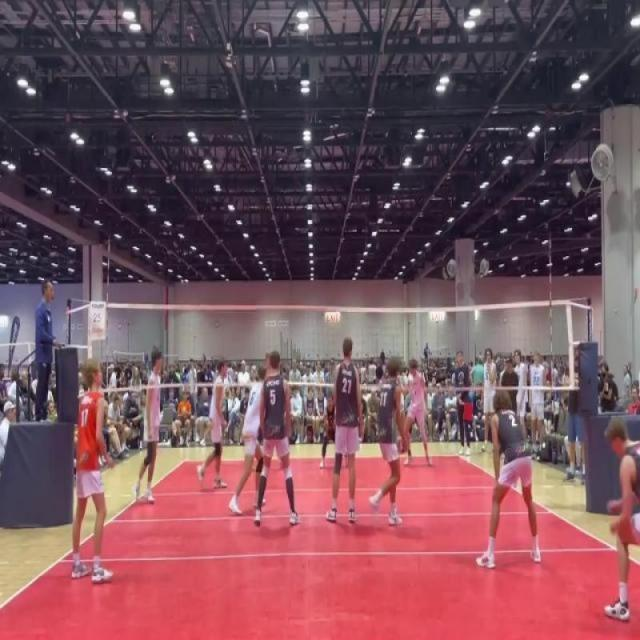volleyball: (395, 434, 406, 456)
